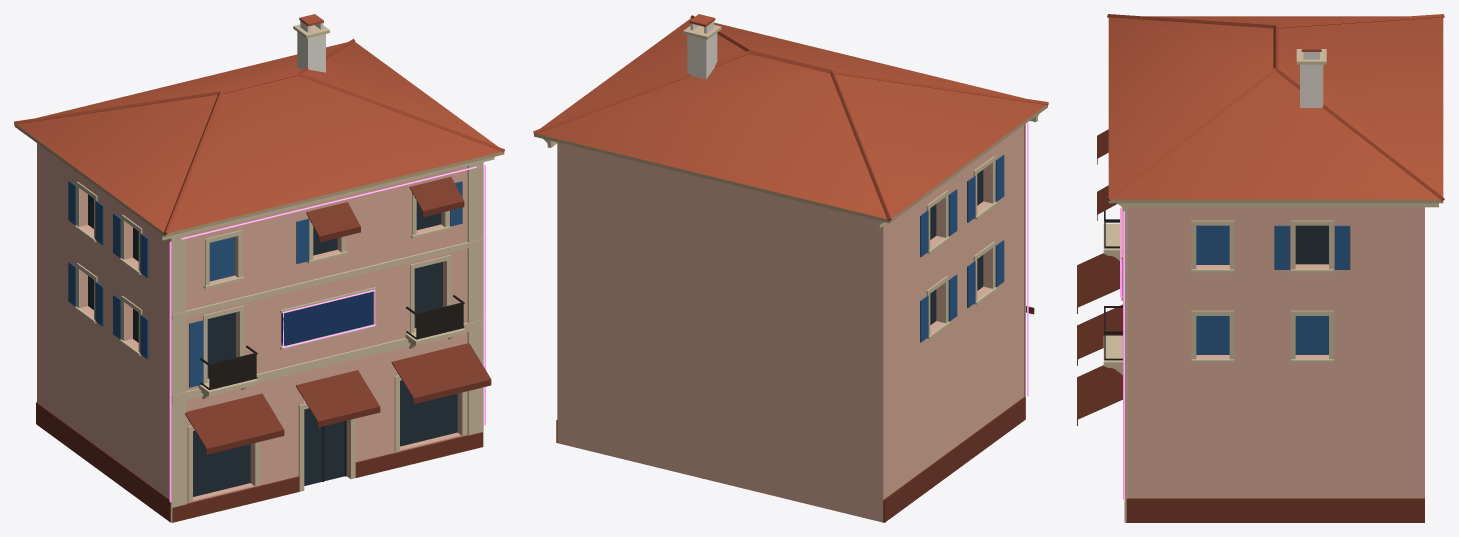
3 views of the same model, side by side, from view 1: azimuth 30°, elevation 25°; view 2: azimuth 150°, elevation 25°; view 3: azimuth 270°, elevation 25° (orthographic). The views are drawn at different scales.
Parts seen in each view (by area): view 1: social.lod1; view 2: social.lod1; view 3: social.lod1.
Part boxes in pixels (<box>): social.lod1: <box>14,14,504,522</box>; social.lod1: <box>533,14,1048,522</box>; social.lod1: <box>1077,14,1444,522</box>.
Size of the model in its own units: 13.2 by 14.31 by 11.1.
